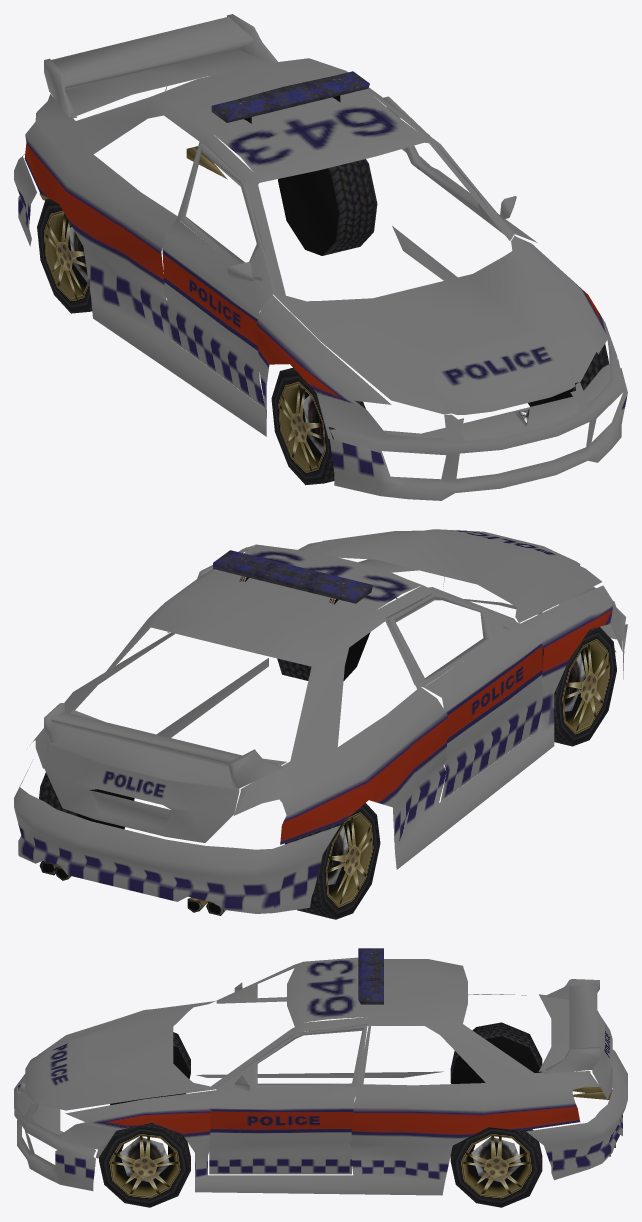
File: car-CUPE_Car11.glb
3 views of the same model, one above another, from view 1: azimuth 30°, elevation 25°; view 2: azimuth 150°, elevation 25°; view 3: azimuth 270°, elevation 25° (orthographic). The views are drawn at different scales.
Parts seen in each view (by area): view 1: CUPE_Car11; view 2: CUPE_Car11; view 3: CUPE_Car11.
Boxes of the visible parts, x1=… form: CUPE_Car11: x1=14, y1=14, x2=627, y2=500; CUPE_Car11: x1=14, y1=529, x2=627, y2=919; CUPE_Car11: x1=14, y1=948, x2=627, y2=1207.
Size of the model in its own units: 1.9 by 1.46 by 4.41.
Materials: 19 (19 with a texture image).
